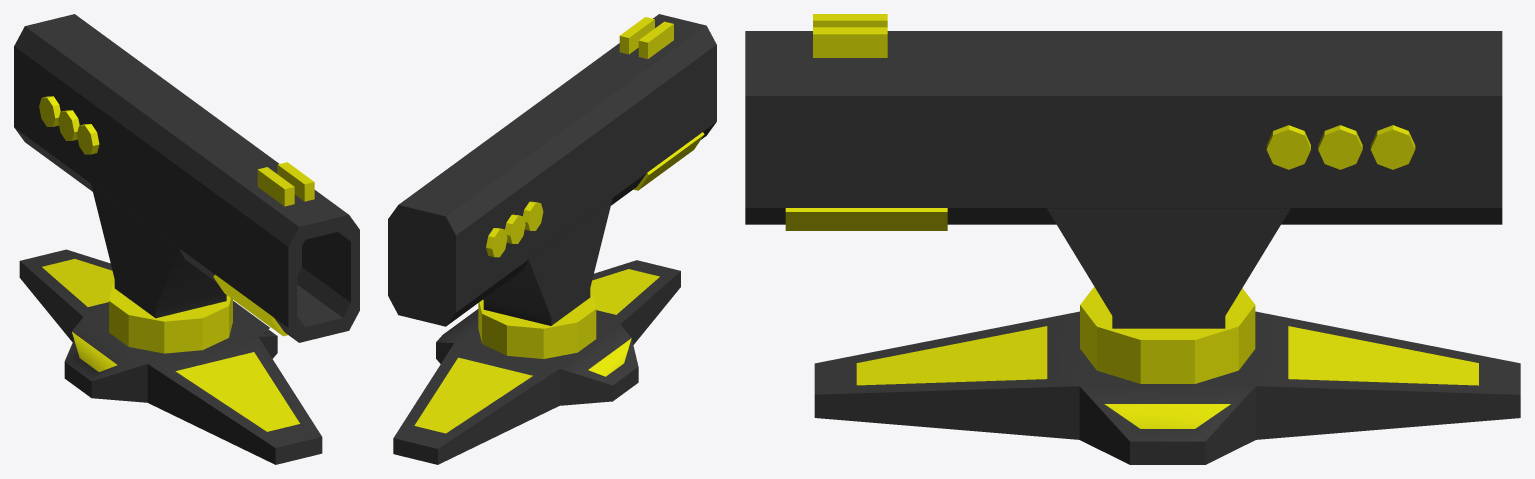
File: Turrent.fbx
The picture shows the model from 3 angles, left to right: view 1: azimuth 30°, elevation 25°; view 2: azimuth 150°, elevation 25°; view 3: azimuth 270°, elevation 25°; orthographic projection. The views are drawn at different scales.
Parts seen in each view (by area): view 1: pCube1, pCube2, pCube3, pCylinder1, pCylinder2, pCylinder4, pCylinder3; view 2: pCube1, pCube2, pCube3, pCylinder1, pCylinder4, pCylinder3, pCylinder2; view 3: pCube1, pCube2, pCube3, pCylinder1, pCylinder4, pCylinder3, pCylinder2.
Boxes of the visible parts, x1=… form: pCube1: x1=14, y1=14, x2=359, y2=342; pCube2: x1=19, y1=249, x2=322, y2=464; pCube3: x1=91, y1=184, x2=226, y2=318; pCylinder1: x1=109, y1=283, x2=232, y2=353; pCylinder2: x1=77, y1=124, x2=99, y2=154; pCylinder4: x1=39, y1=96, x2=60, y2=126; pCylinder3: x1=58, y1=110, x2=79, y2=140; pCube1: x1=388, y1=14, x2=716, y2=326; pCube2: x1=393, y1=260, x2=680, y2=464; pCube3: x1=483, y1=198, x2=612, y2=325; pCylinder1: x1=478, y1=292, x2=596, y2=358; pCylinder4: x1=486, y1=228, x2=507, y2=257; pCylinder3: x1=505, y1=214, x2=525, y2=243; pCylinder2: x1=523, y1=201, x2=543, y2=230; pCube1: x1=745, y1=14, x2=1502, y2=230; pCube2: x1=814, y1=311, x2=1520, y2=464; pCube3: x1=1047, y1=208, x2=1290, y2=328; pCylinder1: x1=1080, y1=286, x2=1255, y2=383; pCylinder4: x1=1370, y1=125, x2=1415, y2=169; pCylinder3: x1=1318, y1=125, x2=1362, y2=169; pCylinder2: x1=1266, y1=125, x2=1310, y2=169.
Bounding box in the file's own units: 1.68 × 2.37 × 4.39.
